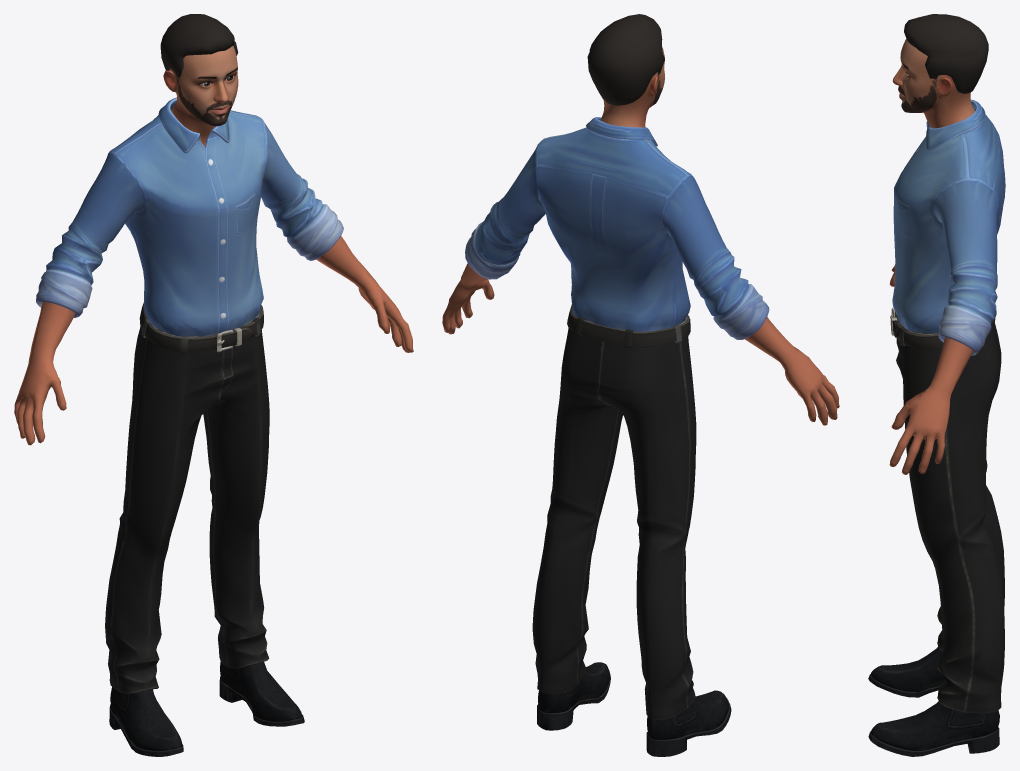
3 renders of one model, left to right at view 1: azimuth 30°, elevation 25°; view 2: azimuth 150°, elevation 25°; view 3: azimuth 270°, elevation 25°, orthographic.
Visible parts, largest first — view 1: GLTF_created_0; view 2: GLTF_created_0; view 3: GLTF_created_0.
Part boxes in pixels (x1,y1,x2,y2): GLTF_created_0: [14, 14, 413, 756]; GLTF_created_0: [442, 14, 839, 756]; GLTF_created_0: [868, 14, 1005, 756].
Size of the model in its own units: 1.06 by 1.86 by 0.3286.
1 material, 1 textured.
